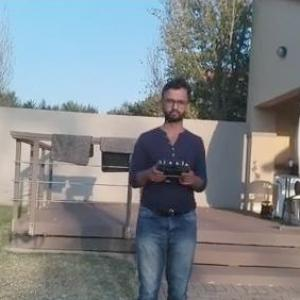follow: (121, 70, 212, 299)
